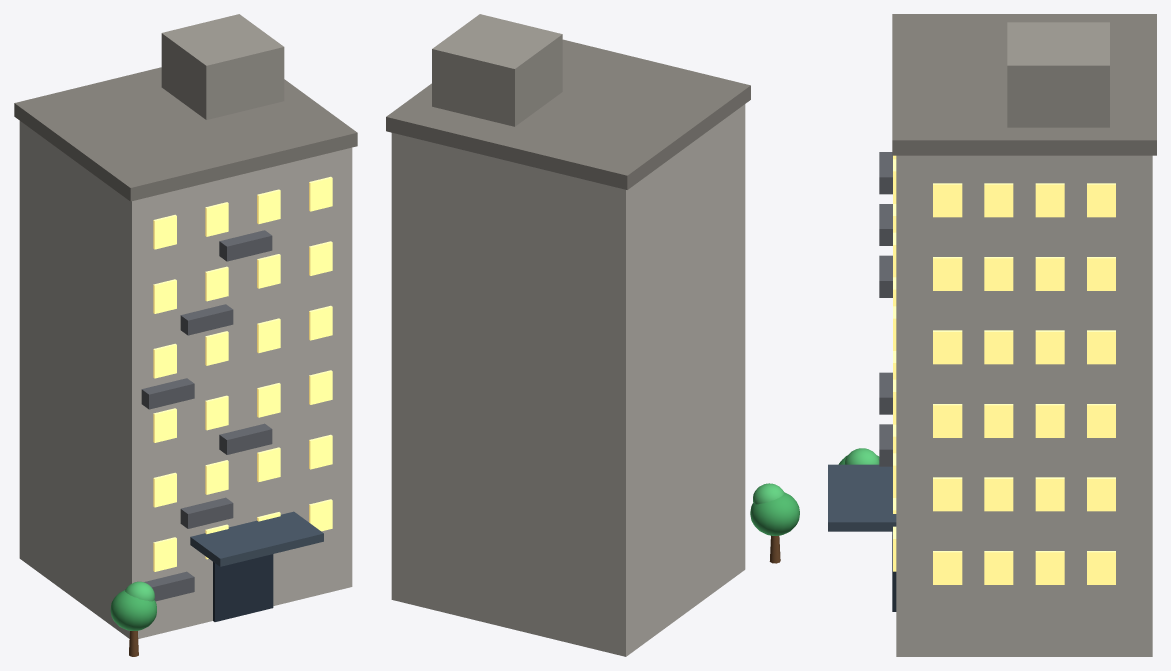
File: res_apt.glb
3 views of the same model, side by side, from view 1: azimuth 30°, elevation 25°; view 2: azimuth 150°, elevation 25°; view 3: azimuth 270°, elevation 25° (orthographic). The views are drawn at different scales.
Bounding box in the file's own units: 3.96 × 7.5 × 3.85.
